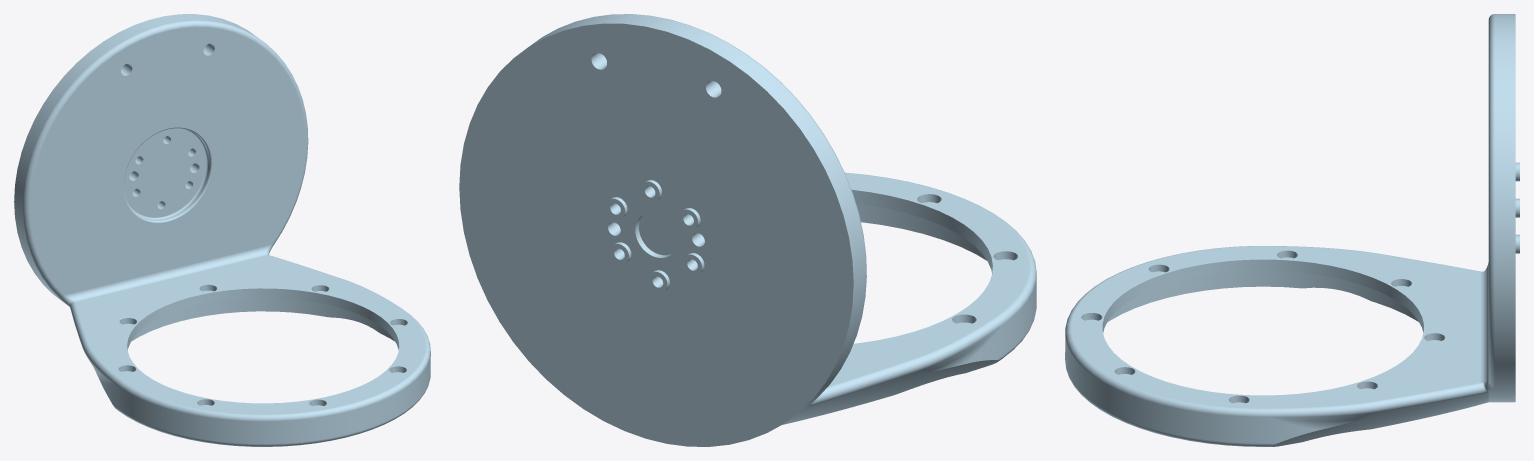
3 views of the same model, side by side, from view 1: azimuth 30°, elevation 25°; view 2: azimuth 150°, elevation 25°; view 3: azimuth 270°, elevation 25° (orthographic). The views are drawn at different scales.
Parts seen in each view (by area): view 1: mesh357, mesh386, mesh380, mesh353, mesh358, mesh366, mesh369, mesh378, mesh387, mesh361, mesh371, mesh356 (+2 smaller); view 2: mesh330, mesh386, mesh366, mesh372, mesh387, mesh369, mesh380, mesh363, mesh328, mesh378, mesh375, mesh358; view 3: mesh386, mesh366, mesh380, mesh369, mesh387, mesh378, mesh358, mesh382, mesh365, mesh383, mesh361, mesh371 (+2 smaller).
Boxes of the visible parts, x1=… form: mesh357: x1=30, y1=27, x2=305, y2=294; mesh386: x1=75, y1=255, x2=425, y2=414; mesh380: x1=100, y1=352, x2=430, y2=443; mesh353: x1=124, y1=128, x2=205, y2=217; mesh358: x1=23, y1=20, x2=308, y2=297; mesh366: x1=14, y1=14, x2=254, y2=302; mesh369: x1=131, y1=298, x2=394, y2=341; mesh378: x1=115, y1=309, x2=430, y2=421; mesh387: x1=127, y1=288, x2=399, y2=350; mesh361: x1=64, y1=244, x2=270, y2=301; mesh371: x1=112, y1=384, x2=428, y2=446; mesh356: x1=123, y1=127, x2=212, y2=223; mesh330: x1=459, y1=23, x2=853, y2=446; mesh386: x1=828, y1=173, x2=1029, y2=386; mesh366: x1=530, y1=14, x2=865, y2=420; mesh372: x1=782, y1=360, x2=998, y2=424; mesh387: x1=852, y1=190, x2=992, y2=273; mesh369: x1=856, y1=203, x2=986, y2=260; mesh380: x1=966, y1=275, x2=1036, y2=363; mesh363: x1=814, y1=359, x2=917, y2=404; mesh328: x1=639, y1=212, x2=677, y2=255; mesh378: x1=845, y1=172, x2=1036, y2=325; mesh375: x1=914, y1=317, x2=1000, y2=371; mesh358: x1=563, y1=14, x2=866, y2=390; mesh386: x1=1071, y1=246, x2=1480, y2=408; mesh366: x1=1488, y1=14, x2=1515, y2=402; mesh380: x1=1065, y1=338, x2=1317, y2=443; mesh369: x1=1108, y1=271, x2=1418, y2=321; mesh387: x1=1102, y1=259, x2=1423, y2=332; mesh378: x1=1065, y1=246, x2=1270, y2=416; mesh358: x1=1488, y1=14, x2=1494, y2=385; mesh382: x1=1272, y1=392, x2=1488, y2=446; mesh365: x1=1378, y1=383, x2=1482, y2=411; mesh383: x1=1270, y1=401, x2=1379, y2=416; mesh361: x1=1480, y1=262, x2=1488, y2=382; mesh371: x1=1066, y1=368, x2=1277, y2=446.
Size of the model in its own units: 0.095 by 0.0931 by 0.109.
